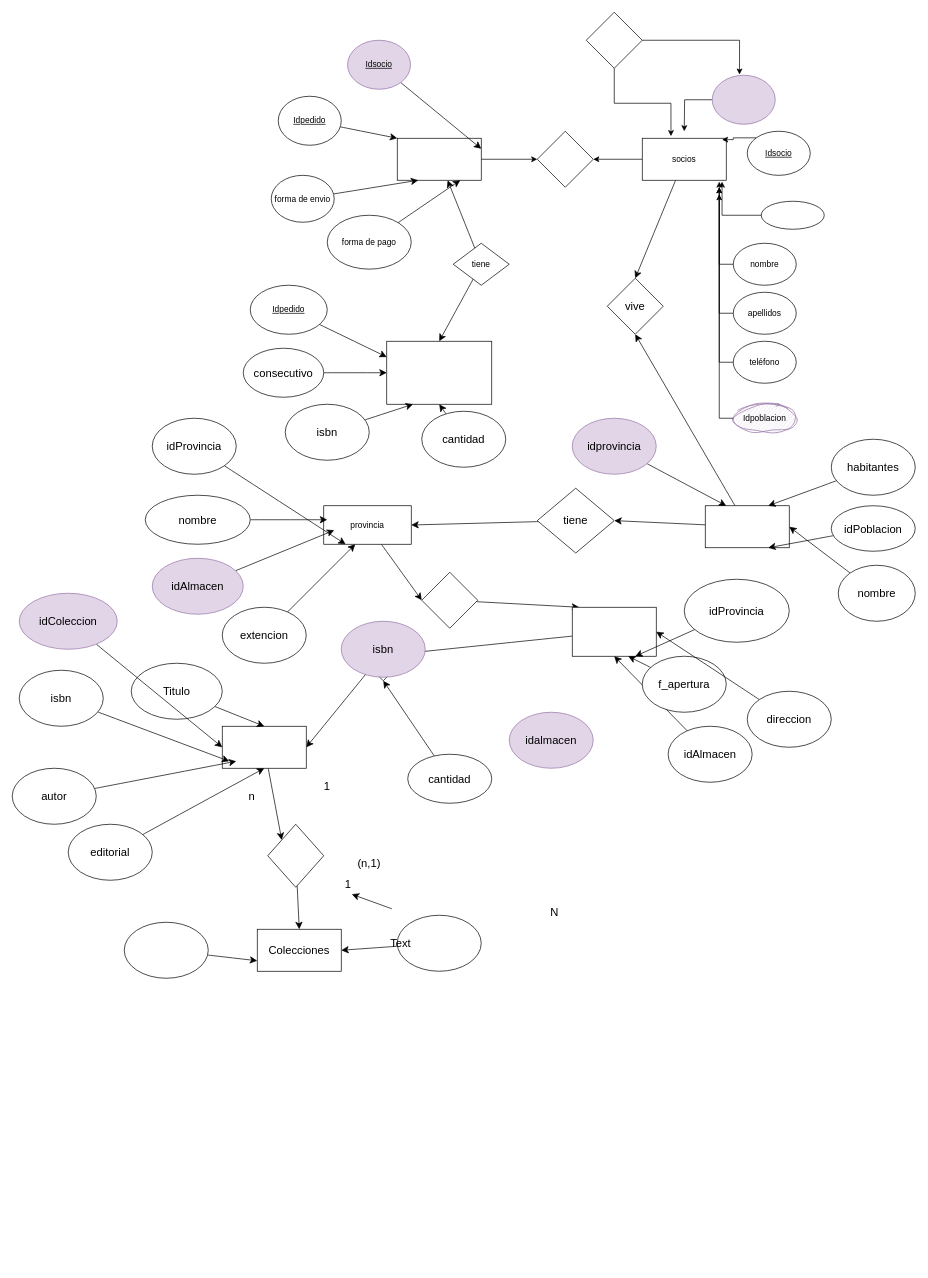
Image size: 928x1278. Some labels were removed from this diagram. Each missing label, with the box of its shape:
almacenes: (572, 607, 656, 656)
aval: (586, 12, 642, 68)
compran: (537, 131, 593, 187)
detallePedido: (386, 341, 492, 404)
dni: (761, 201, 824, 229)
id_socio_avalador: (712, 75, 775, 124)
idCoeccion: (124, 922, 208, 978)
libros_cds: (222, 726, 306, 768)
Pedidos: (397, 138, 481, 180)
poblaciones: (705, 505, 789, 548)
Se encuentran: (267, 824, 324, 887)
Surte: (421, 572, 478, 628)
volumen: (397, 915, 481, 971)
